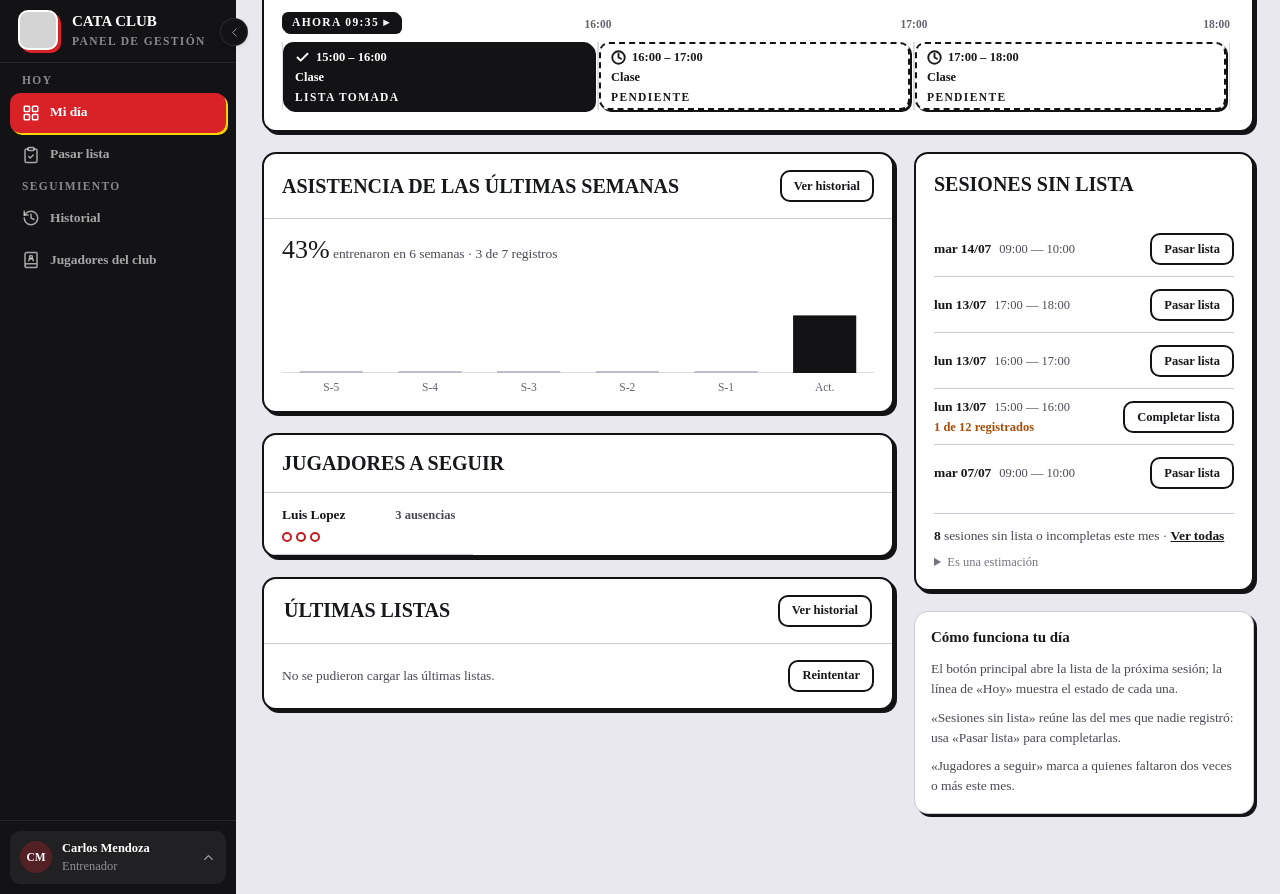
Scenario: TrainerPage — Mi día › tells the trainer the recent lists failed to load, and retries
(page scrolled)
Click the button "Reintentar": (831, 676) x1=788 y1=660 x2=874 y2=692
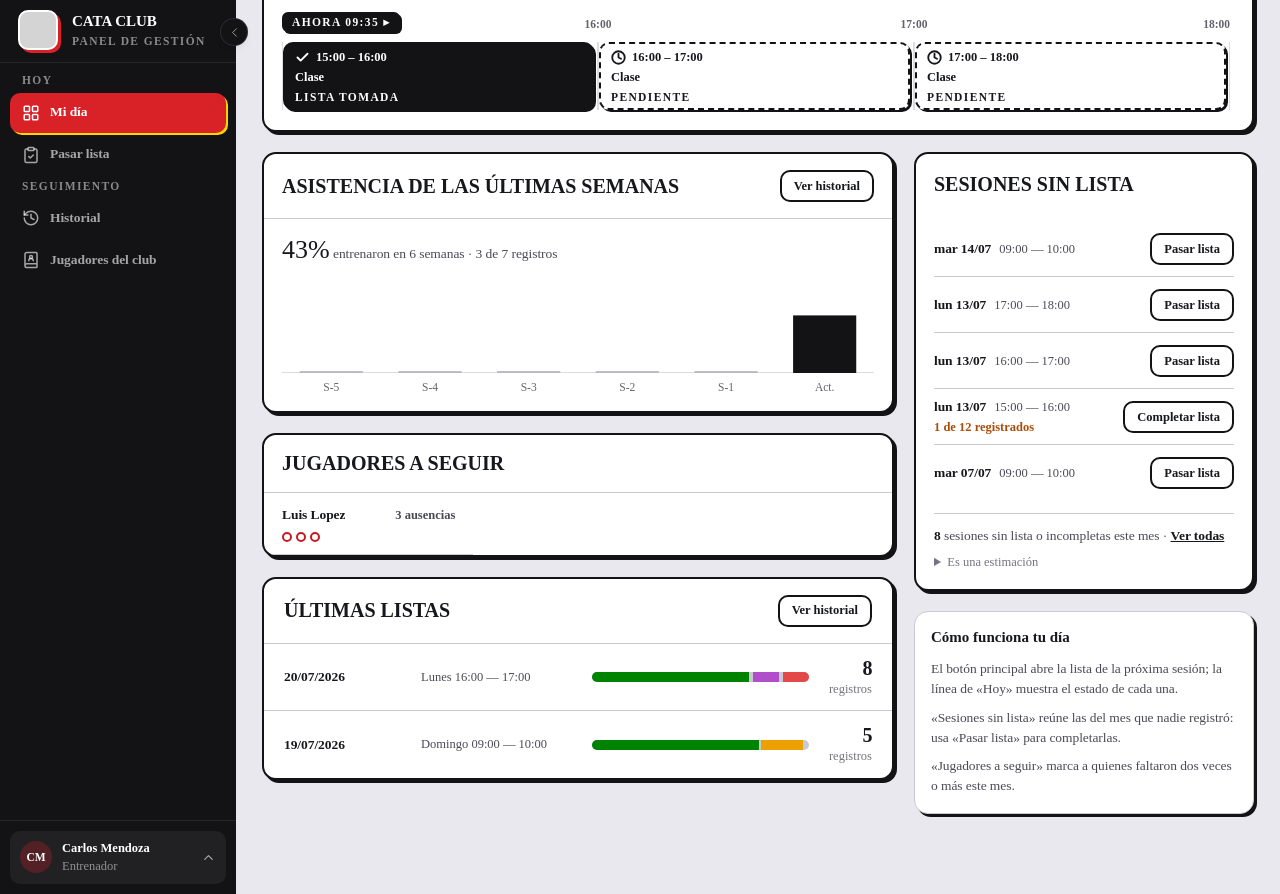
expect the text "Domingo 09:00 — 10:00" is shown: met, box x1=421 y1=738 x2=547 y2=752
